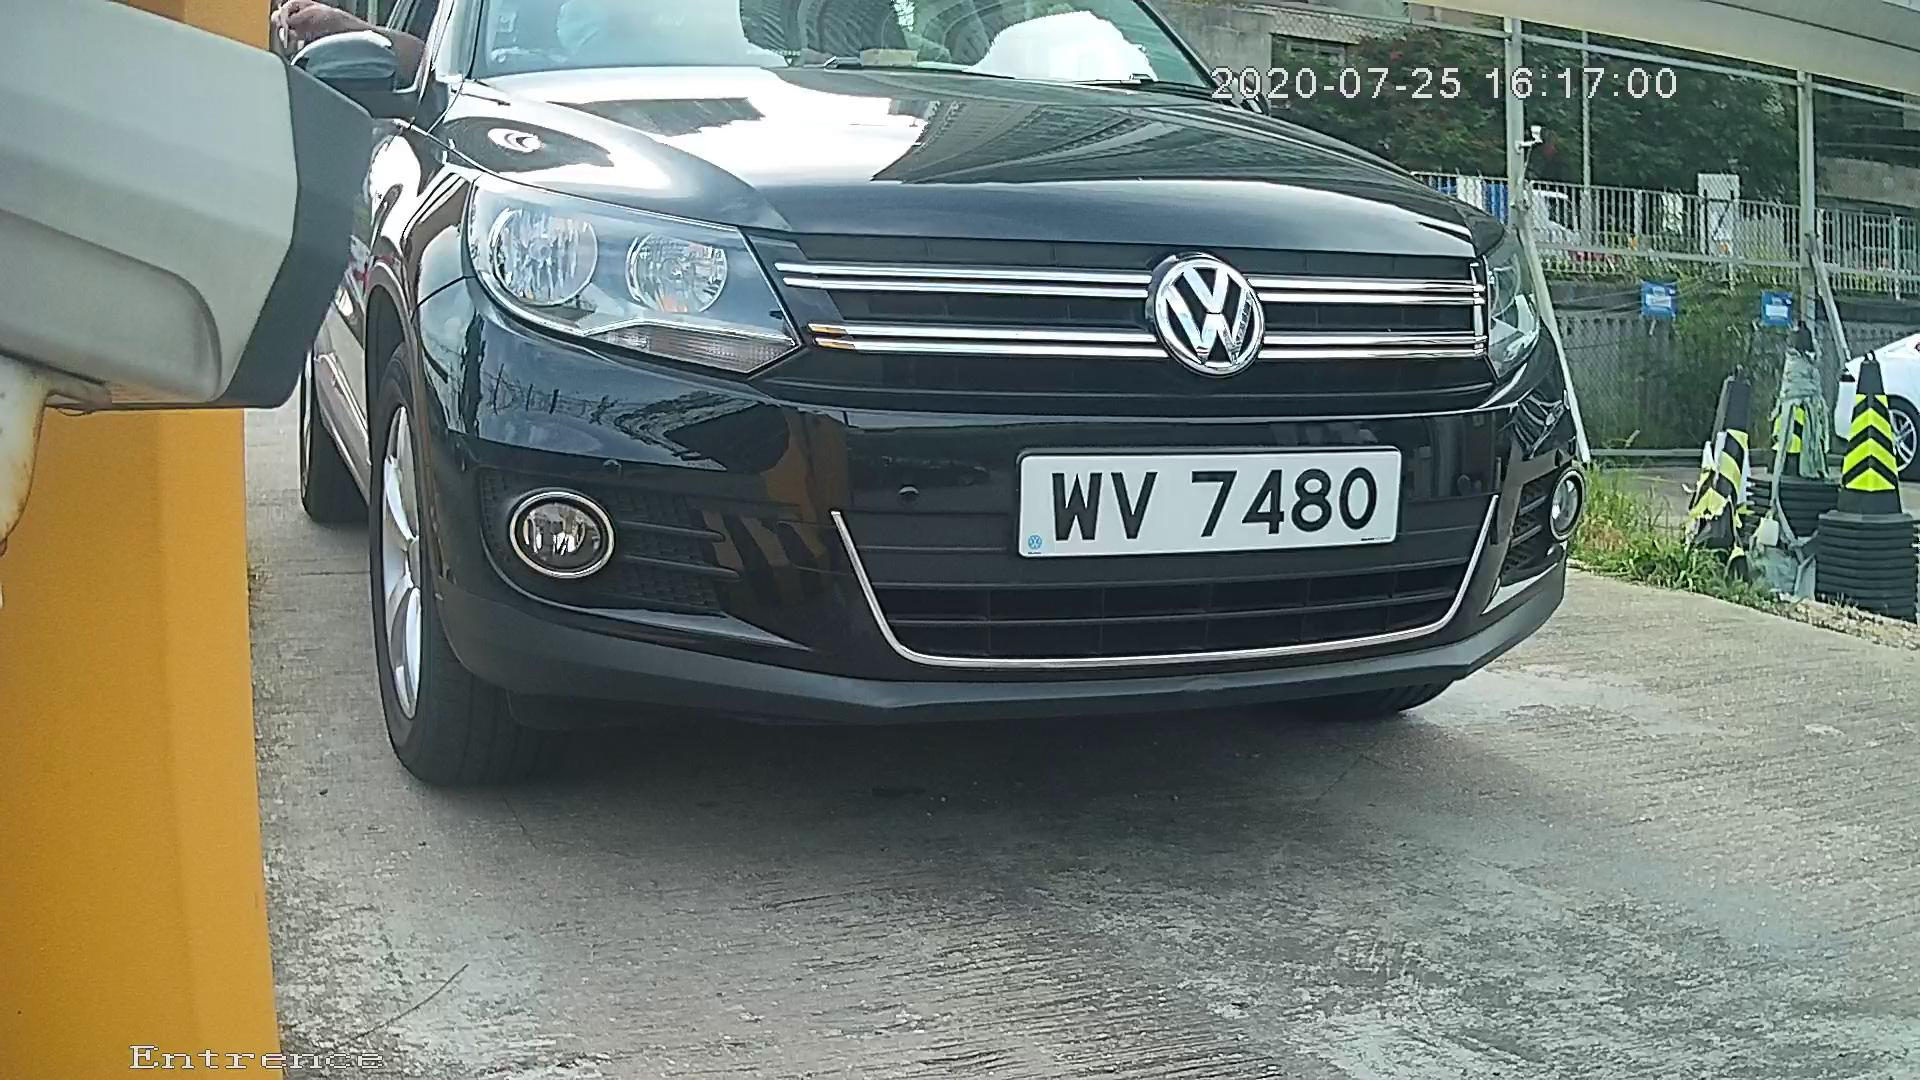License Plate: (995, 434, 1423, 579)
